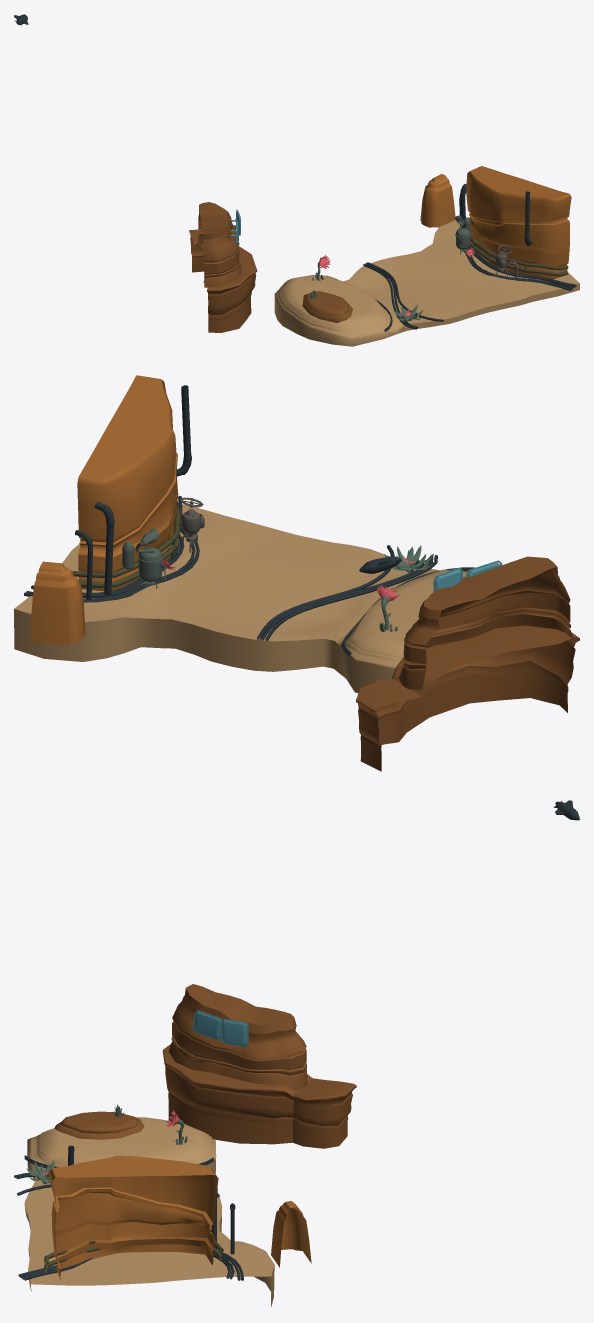
The model's file is ForeGround For SketchFab.fbx.
The picture shows the model from 3 angles, top to bottom: view 1: azimuth 30°, elevation 25°; view 2: azimuth 150°, elevation 25°; view 3: azimuth 270°, elevation 25°; orthographic projection. The views are drawn at different scales.
Parts seen in each view (by area): view 1: Ground, RightWall, LftMtnTier_02, LftMtnTier_01, MntSeparation, SecondTierGrnd, SteamPipesRoundRght, RghtWireBundle_01, RghtWireBundle_02; view 2: Ground, LftMtnTier_02, RightWall, LftMtnTier_01, MntSeparation, RghtWireBundleGrnd, SteamPipesRoundRght, RghtWireBundle_01, RightUpPipe_01, FrntPipe, RgtWireBundleGrnd_02, RghtWireBundle_02; view 3: RightWall, Ground, LftMtnTier_02, LftMtnTier_01, SecondTierGrnd, MntSeparation, pasted__SolarPanel_02, pasted__SolarPanel_01.
Boxes of the visible parts, box(x1,y1,x2,y2) form: Ground: box(274, 217, 579, 346); RightWall: box(466, 166, 571, 279); LftMtnTier_02: box(189, 229, 257, 332); LftMtnTier_01: box(198, 202, 242, 287); MntSeparation: box(420, 174, 455, 227); SecondTierGrnd: box(302, 291, 352, 322); SteamPipesRoundRght: box(470, 236, 568, 276); RghtWireBundle_01: box(464, 249, 572, 290); RghtWireBundle_02: box(468, 246, 576, 287); Ground: box(14, 503, 467, 692); LftMtnTier_02: box(356, 625, 579, 771); RightWall: box(77, 375, 178, 591); LftMtnTier_01: box(399, 556, 573, 689); MntSeparation: box(29, 561, 85, 645); RghtWireBundleGrnd: box(261, 555, 437, 640); SteamPipesRoundRght: box(72, 507, 182, 587); RghtWireBundle_01: box(24, 496, 199, 602); RightUpPipe_01: box(94, 502, 114, 595); FrntPipe: box(176, 385, 191, 476); RgtWireBundleGrnd_02: box(257, 545, 394, 640); RghtWireBundle_02: box(31, 534, 184, 597); RightWall: box(48, 1155, 218, 1280); Ground: box(24, 1117, 274, 1307); LftMtnTier_02: box(162, 1044, 356, 1148); LftMtnTier_01: box(169, 984, 307, 1090); SecondTierGrnd: box(54, 1111, 144, 1139); MntSeparation: box(271, 1201, 311, 1267); pasted__SolarPanel_02: box(221, 1018, 248, 1046); pasted__SolarPanel_01: box(193, 1010, 221, 1039).
Bounding box in the file's own units: 850 × 503 × 890.
